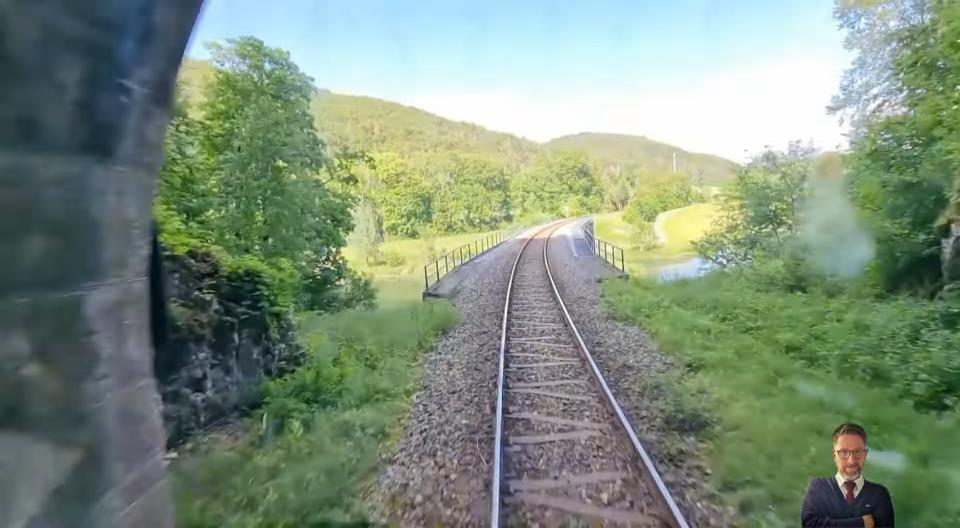Plant: (604, 280, 960, 528), (173, 302, 455, 528)
